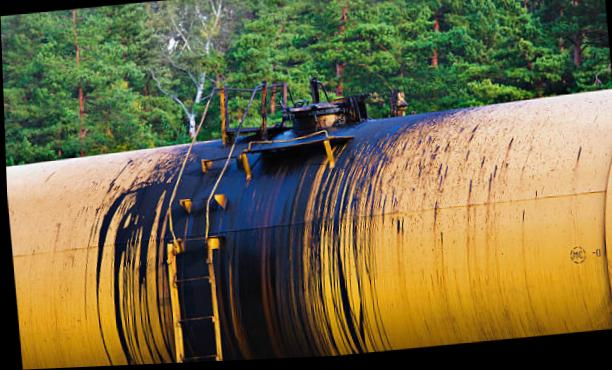leak: (117, 96, 467, 365)
